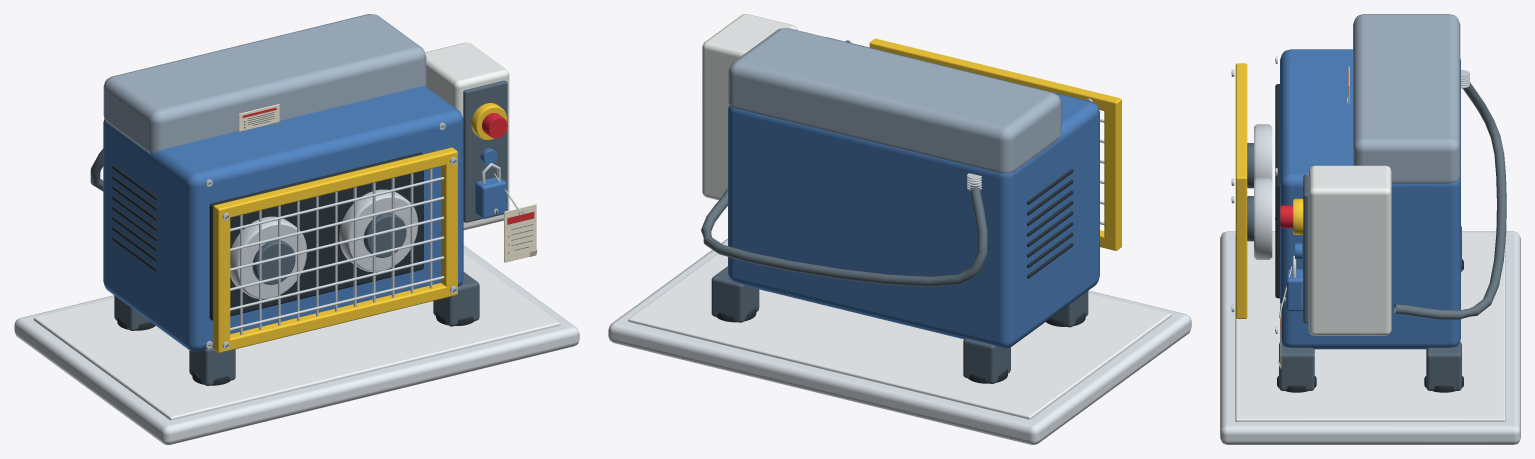
File: machinery.glb
3 views of the same model, side by side, from view 1: azimuth 30°, elevation 25°; view 2: azimuth 150°, elevation 25°; view 3: azimuth 270°, elevation 25° (orthographic). The views are drawn at different scales.
Parts seen in each view (by area): view 1: machinery; view 2: machinery; view 3: machinery.
Boxes of the visible parts, x1,y1,x2,y2 form: machinery: [14, 14, 579, 444]; machinery: [608, 14, 1191, 444]; machinery: [1220, 14, 1520, 444].
Size of the model in its own units: 0.77 by 0.476 by 0.49.
